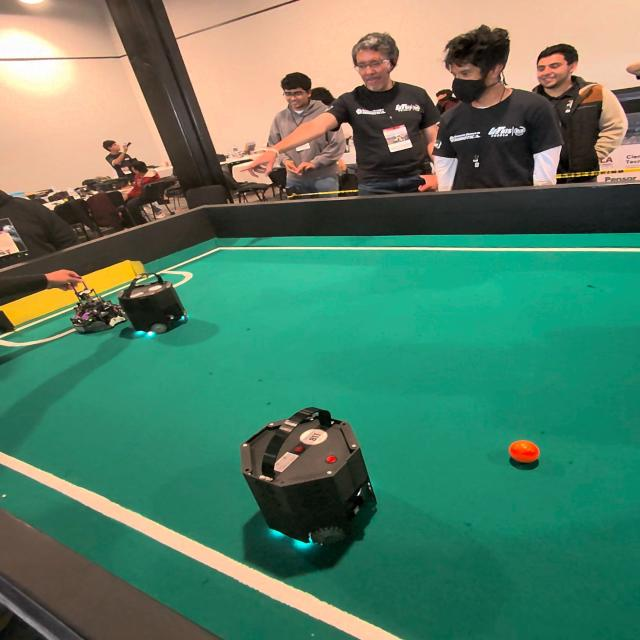Robot: (233, 404, 389, 571), (116, 260, 194, 344), (66, 278, 120, 338)
pelota: (508, 442, 542, 469)
